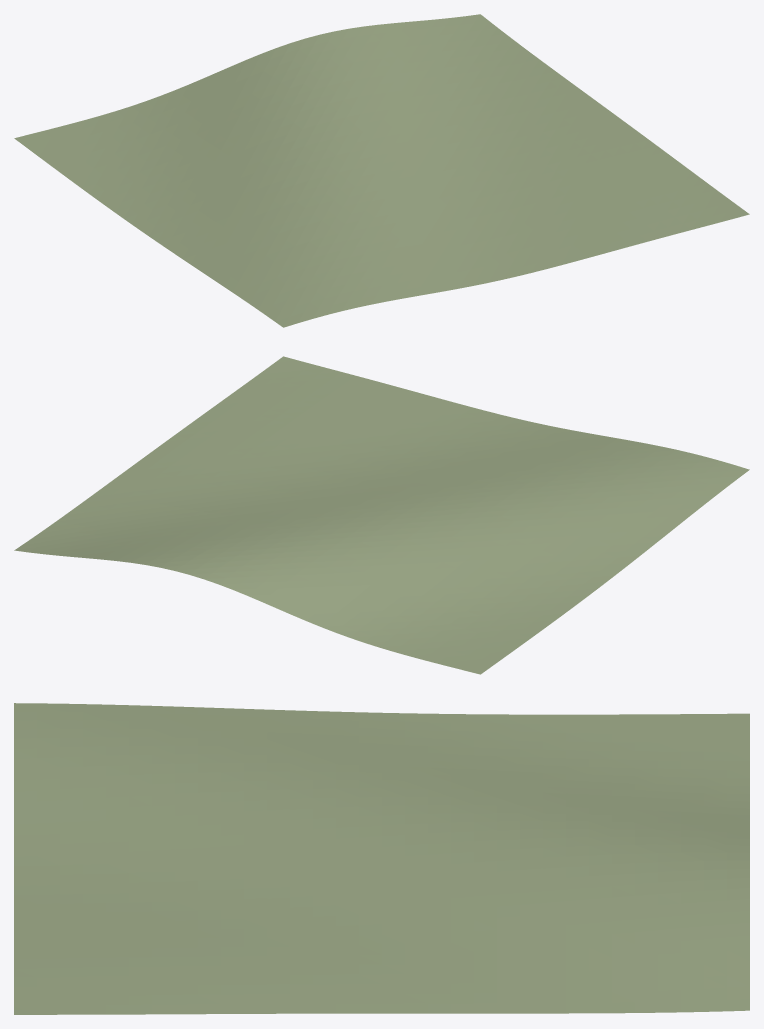
Rendered from desert-3-9.glb.
The picture shows the model from 3 angles, top to bottom: view 1: azimuth 30°, elevation 25°; view 2: azimuth 150°, elevation 25°; view 3: azimuth 270°, elevation 25°; orthographic projection. The views are drawn at different scales.
Visible parts, largest first — view 1: desert-3-9; view 2: desert-3-9; view 3: desert-3-9.
Part boxes in pixels (x1,y1,x2,y2): desert-3-9: [14, 14, 749, 327]; desert-3-9: [14, 356, 749, 674]; desert-3-9: [14, 703, 749, 1014].
Size of the model in its own units: 512 by 31.18 by 512.
